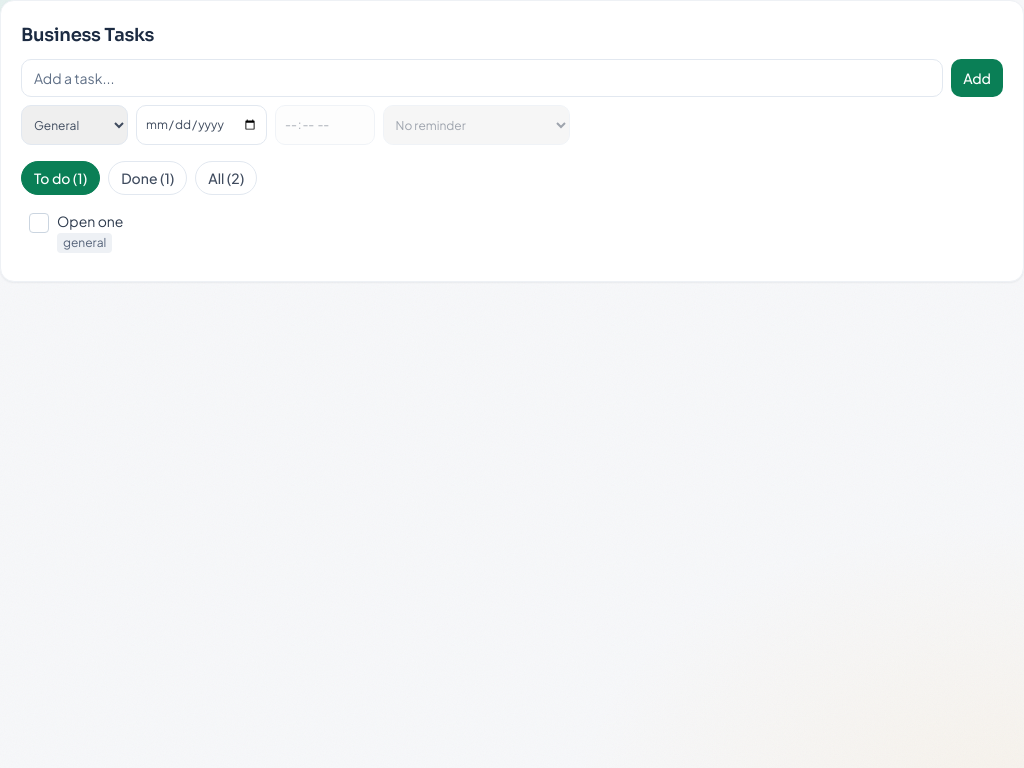
BusinessTasks › on the page, filters between to do, done and all
The width and height of the screenshot is (1024, 768).
Expected: the text "Open one" is shown, x1=57 y1=212 x2=124 y2=230
Expected: the text "Finished one" is not shown
Click the tab "Done (1)" at [148, 178], box x1=108 y1=161 x2=187 y2=195
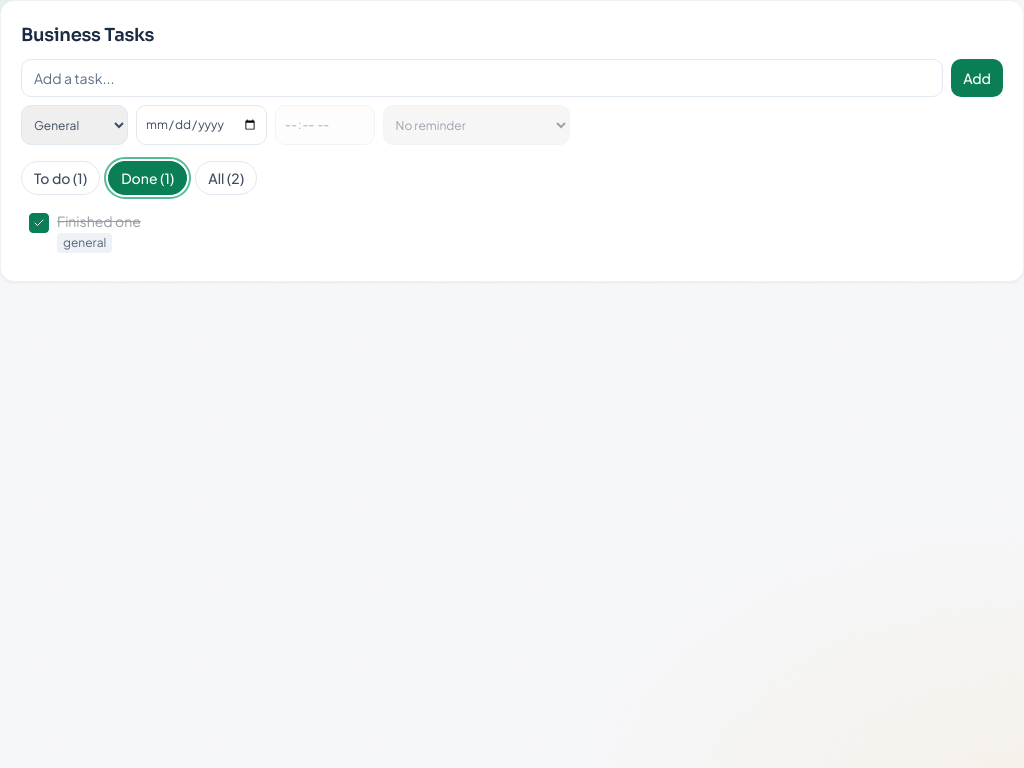
Expected: the text "Finished one" is shown, x1=57 y1=212 x2=141 y2=230
Expected: the text "Open one" is gone
Click the tab "All (2)" at [226, 178], box x1=195 y1=161 x2=257 y2=195
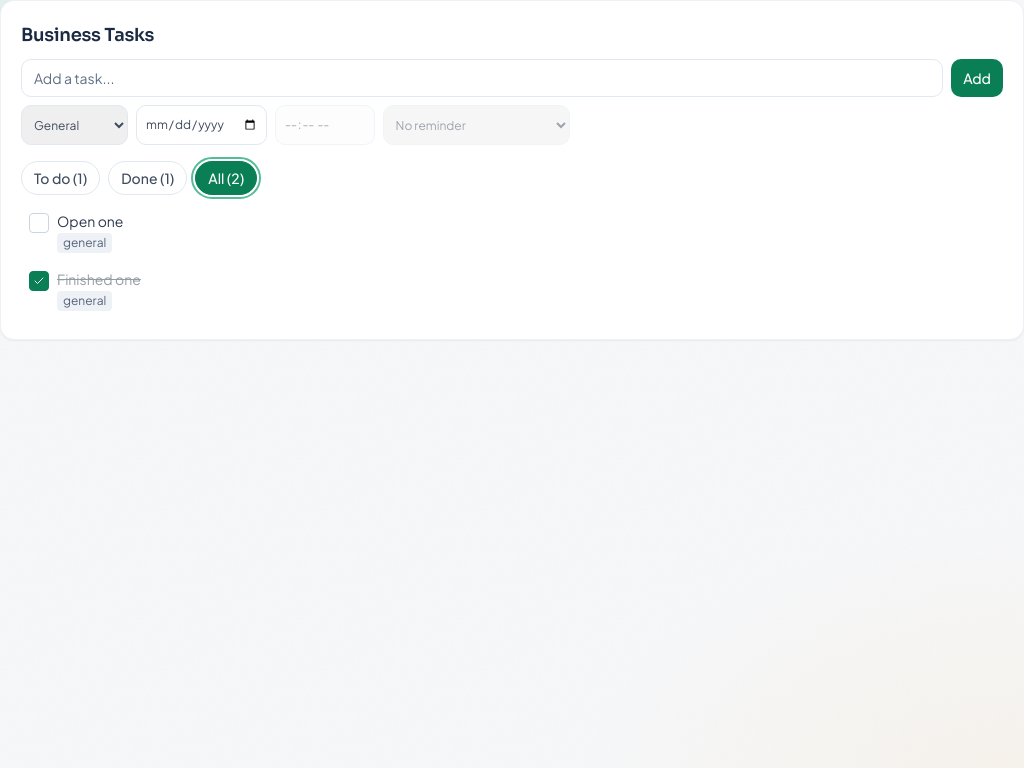
Expected: the text "Finished one" is shown, x1=57 y1=270 x2=141 y2=288
Expected: the text "Open one" is shown, x1=57 y1=212 x2=124 y2=230
